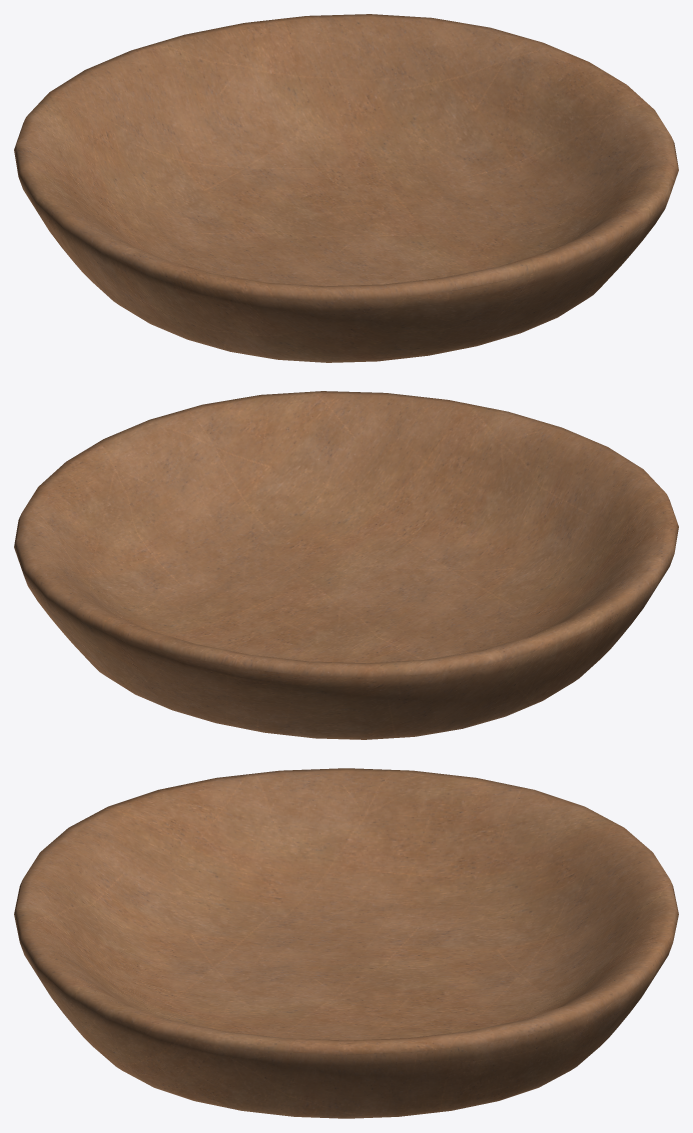
The model's file is Plate_Wood.fbx.
The picture shows the model from 3 angles, top to bottom: view 1: azimuth 30°, elevation 25°; view 2: azimuth 150°, elevation 25°; view 3: azimuth 270°, elevation 25°; orthographic projection.
Visible parts, largest first — view 1: Cube; view 2: Cube; view 3: Cube.
Part boxes in pixels (bbox=[...]): Cube: bbox=[14, 14, 678, 362]; Cube: bbox=[14, 391, 678, 739]; Cube: bbox=[14, 768, 678, 1118].
Size of the model in its own units: 26.29 by 4.57 by 26.29.
1 material, 1 textured.
